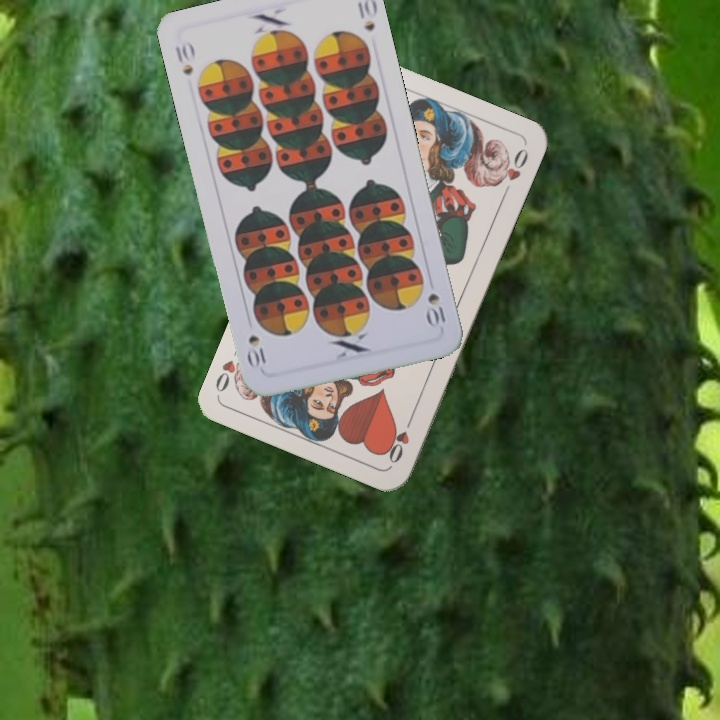HO: (382, 411, 416, 466)
S10: (171, 37, 198, 78), (422, 289, 448, 331)
